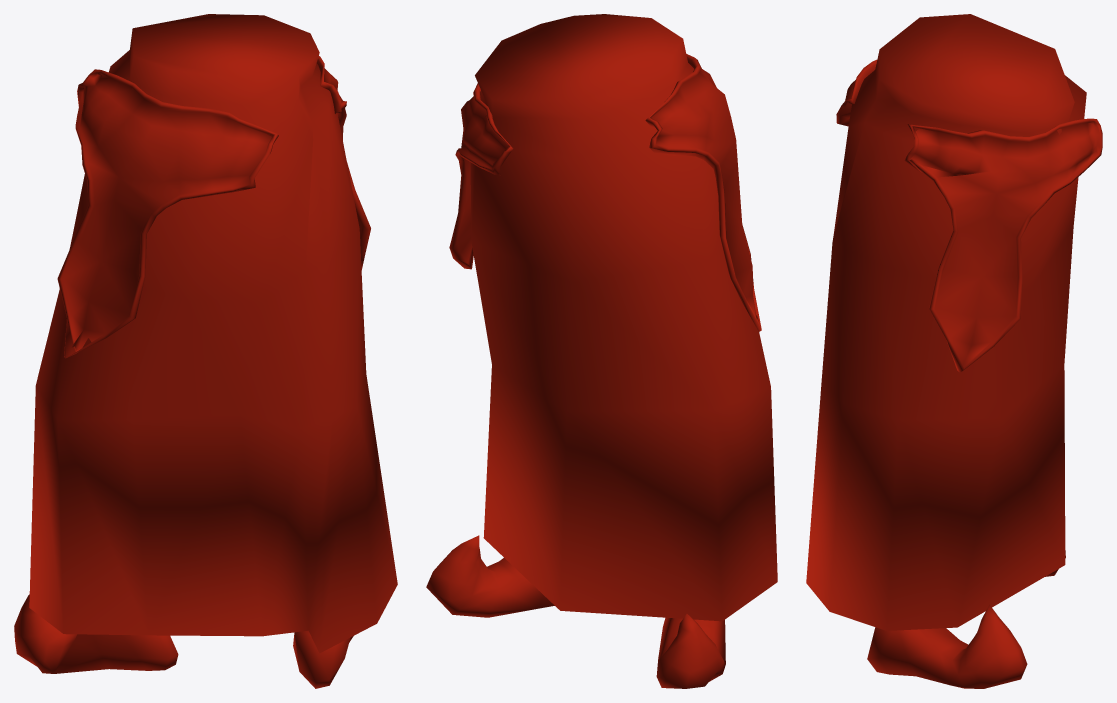
The model's file is bot_000043.obj.
The picture shows the model from 3 angles, left to right: view 1: azimuth 30°, elevation 25°; view 2: azimuth 150°, elevation 25°; view 3: azimuth 270°, elevation 25°; orthographic projection. The views are drawn at different scales.
Parts seen in each view (by area): view 1: LowPoly_Warlock.004_Plane.004; view 2: LowPoly_Warlock.004_Plane.004; view 3: LowPoly_Warlock.004_Plane.004.
Part boxes in pixels (bbox=[...]): LowPoly_Warlock.004_Plane.004: bbox=[14, 14, 397, 688]; LowPoly_Warlock.004_Plane.004: bbox=[426, 14, 777, 688]; LowPoly_Warlock.004_Plane.004: bbox=[806, 14, 1102, 688].
Size of the model in its own units: 0.6176 by 1.14 by 0.5161.
